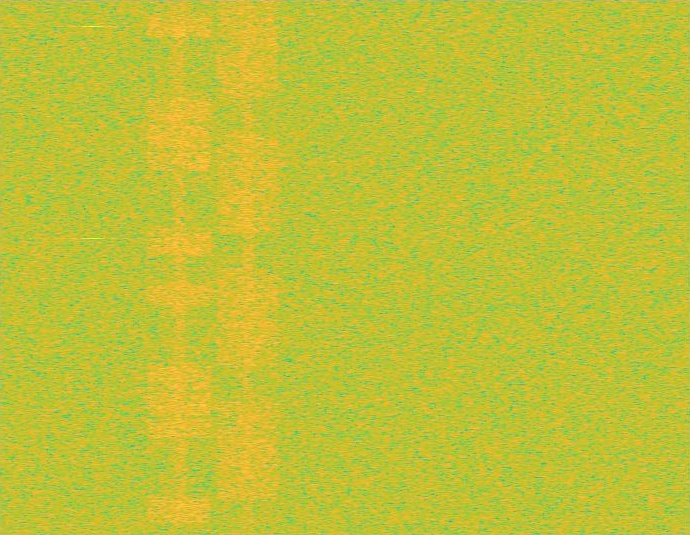5G: (214, 0, 283, 534)
DSSS: (171, 0, 187, 534), (240, 0, 256, 534)
LTE: (145, 0, 214, 534)
Radar: (86, 0, 100, 534)
